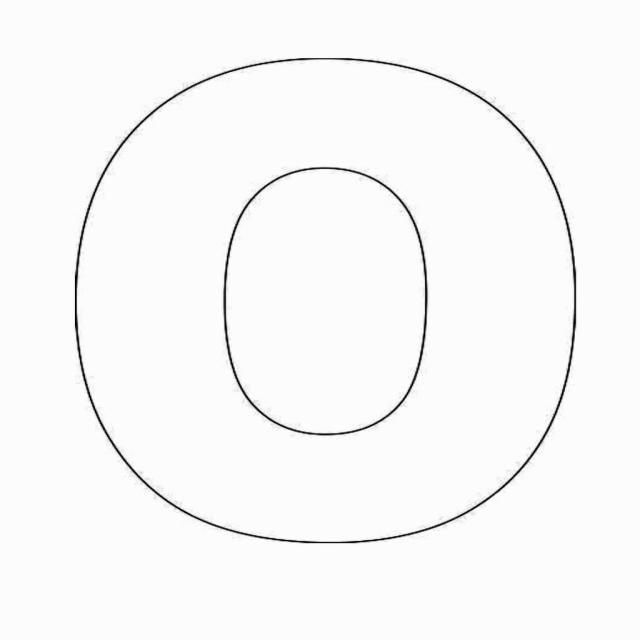O: (10, 51, 600, 577)
